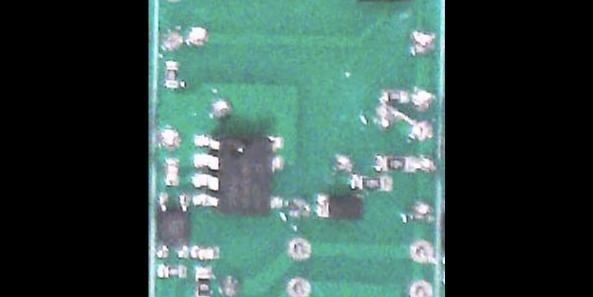chip-capacitor: (163, 156, 179, 186), (190, 246, 220, 261)
chip-resistor: (353, 175, 391, 190), (193, 266, 211, 297), (156, 263, 187, 279), (381, 155, 412, 171), (163, 59, 178, 90), (380, 90, 407, 103)
diode: (316, 193, 364, 220)
ic: (191, 132, 285, 215), (154, 191, 192, 259)
